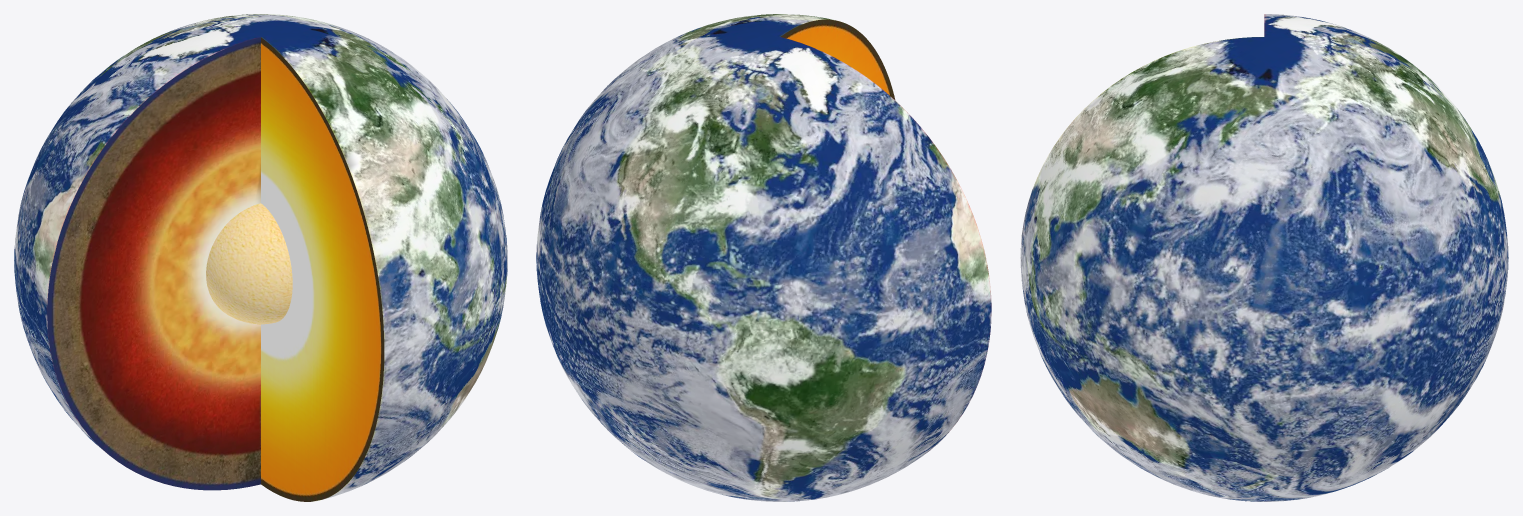
The model's file is core.glb.
3 views of the same model, side by side, from view 1: azimuth 30°, elevation 25°; view 2: azimuth 150°, elevation 25°; view 3: azimuth 270°, elevation 25° (orthographic).
Visible parts, largest first — view 1: earth_cross_section.1; view 2: earth_cross_section.1; view 3: earth_cross_section.1.
Part boxes in pixels (bbox=[...]): earth_cross_section.1: bbox=[14, 14, 507, 501]; earth_cross_section.1: bbox=[536, 14, 991, 501]; earth_cross_section.1: bbox=[1020, 14, 1508, 501].
Size of the model in its own units: 0.2 by 0.2 by 0.2.
1 material, 1 textured.
